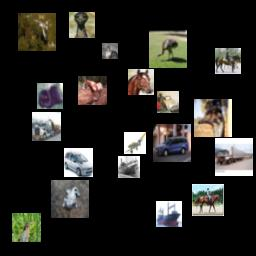airplane: (124, 132, 146, 154)
automobile: (153, 124, 191, 162), (64, 148, 93, 177), (157, 91, 179, 113)
bird: (194, 99, 232, 137), (149, 30, 187, 68), (18, 13, 56, 51), (12, 213, 41, 242), (69, 12, 95, 38)
cat: (102, 43, 118, 59)
dog: (37, 83, 63, 109)
frog: (51, 180, 89, 218)
ship: (156, 201, 182, 227), (118, 156, 140, 178)
truck: (215, 138, 253, 176), (32, 112, 61, 141)
